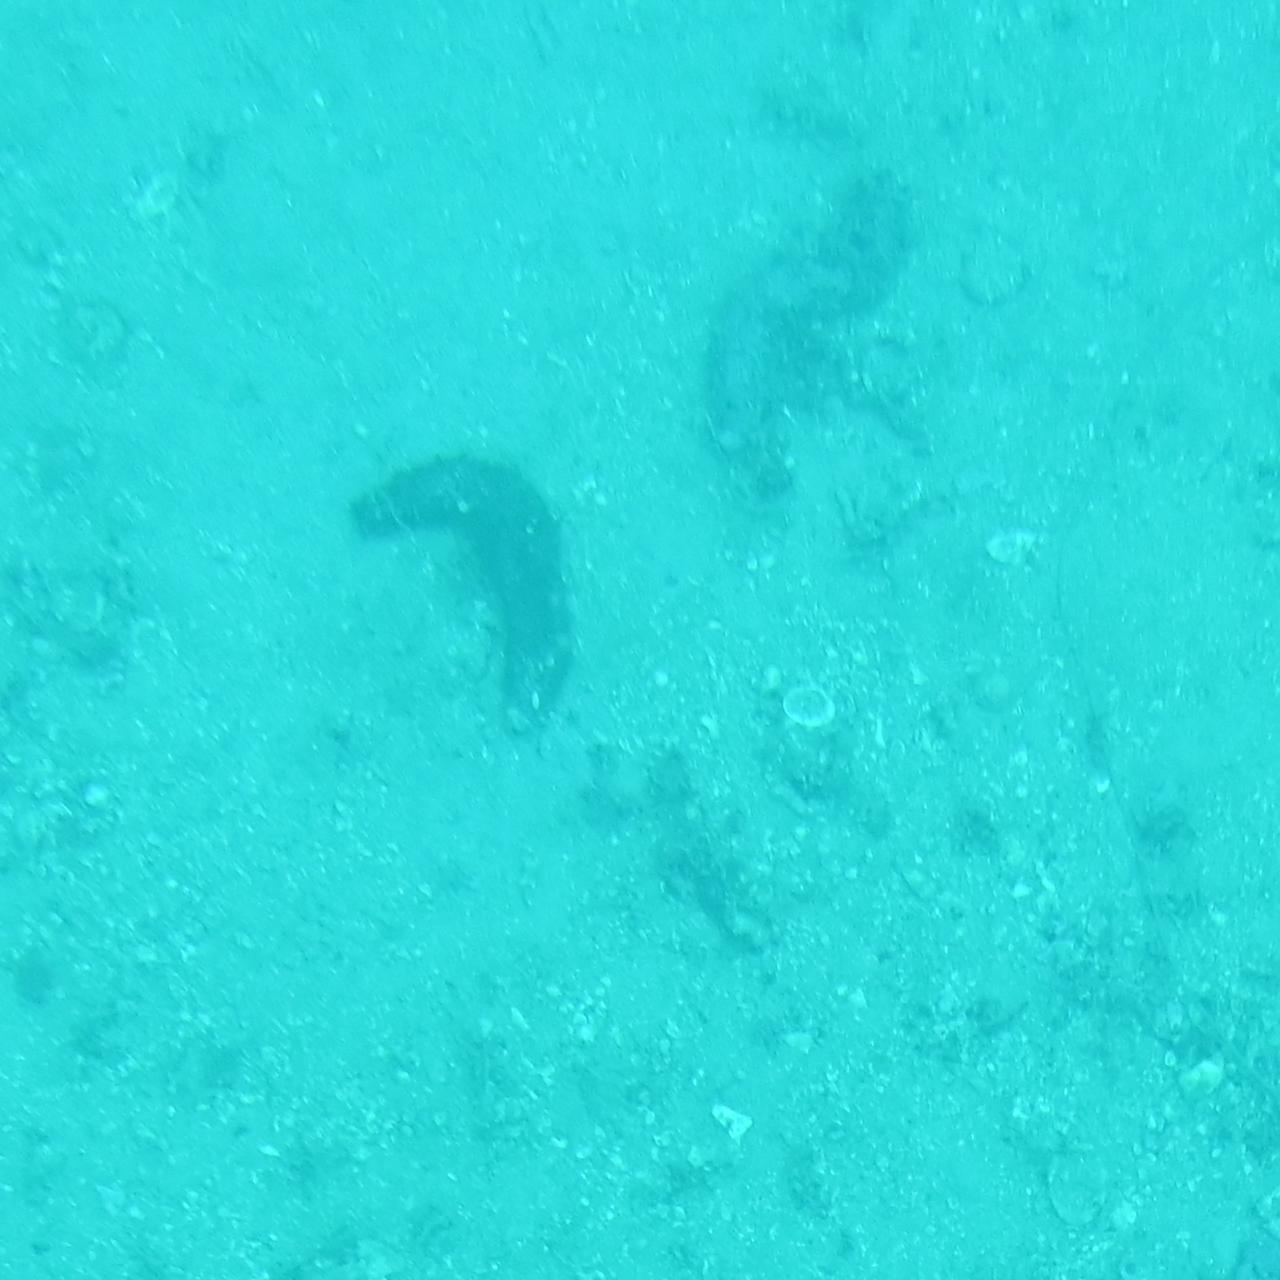Holothuria tubulosa: (343, 445, 583, 749), (726, 176, 908, 502)
